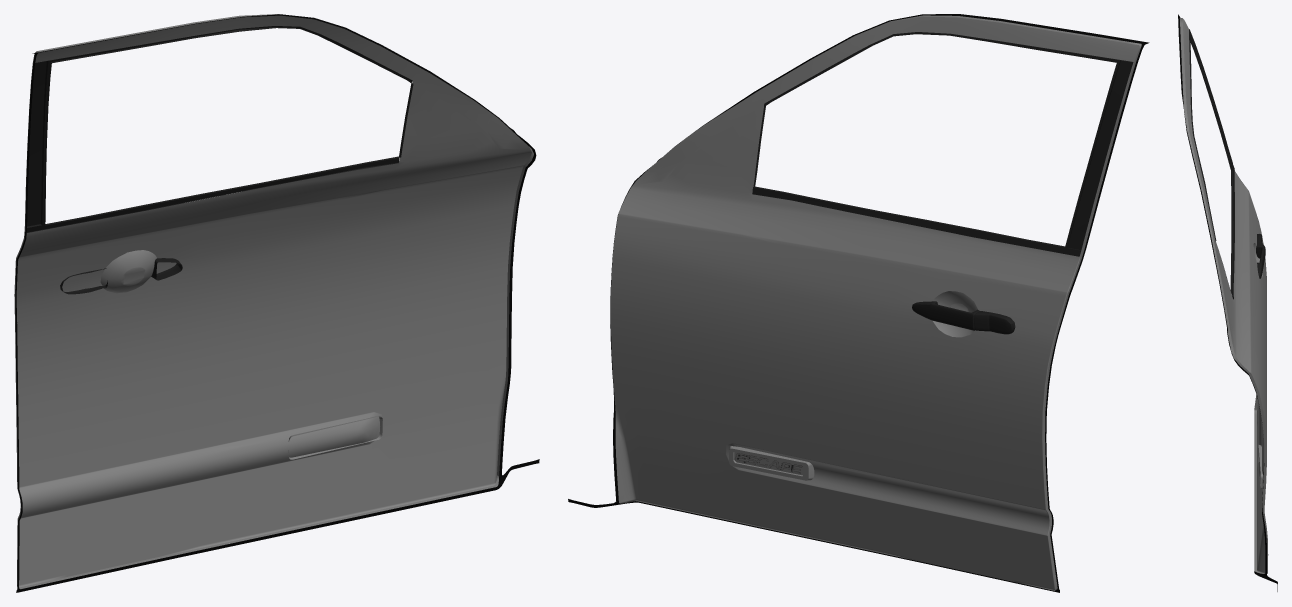
The picture shows the model from 3 angles, left to right: view 1: azimuth 30°, elevation 25°; view 2: azimuth 150°, elevation 25°; view 3: azimuth 270°, elevation 25°; orthographic projection. The views are drawn at different scales.
Parts seen in each view (by area): view 1: P712_261B_L_P712_261B_L_2_DaS, P712_261B_L_P712_261B_L_1_D, P712_261B_L_P712_261B_L_4_D, P712_261B_L_P712_261B_L_2_DaS_E; view 2: P712_261B_L_P712_261B_L_2_DaS, P712_261B_L_P712_261B_L_1_D, P712_261B_L_P712_261B_L_4_D, P712_261B_L_P712_261B_L_2_DaS_E, P712_261B_L_5_D_P712_261B_L; view 3: P712_261B_L_P712_261B_L_2_DaS, P712_261B_L_P712_261B_L_2_DaS_E, P712_261B_L_P712_261B_L_1_D, P712_261B_L_P712_261B_L_4_D.
Part boxes in pixels (box(x1,y1,x2,y2)): P712_261B_L_P712_261B_L_2_DaS: box(16, 15, 531, 587); P712_261B_L_P712_261B_L_1_D: box(26, 26, 413, 294); P712_261B_L_P712_261B_L_4_D: box(15, 14, 539, 592); P712_261B_L_P712_261B_L_2_DaS_E: box(14, 14, 533, 589); P712_261B_L_P712_261B_L_2_DaS: box(610, 16, 1139, 590); P712_261B_L_P712_261B_L_1_D: box(752, 32, 1133, 334); P712_261B_L_P712_261B_L_4_D: box(568, 14, 1149, 592); P712_261B_L_P712_261B_L_2_DaS_E: box(752, 15, 1141, 590); P712_261B_L_5_D_P712_261B_L: box(729, 446, 814, 480); P712_261B_L_P712_261B_L_2_DaS: box(1182, 18, 1266, 573); P712_261B_L_P712_261B_L_2_DaS_E: box(1179, 18, 1268, 573); P712_261B_L_P712_261B_L_1_D: box(1189, 29, 1265, 299); P712_261B_L_P712_261B_L_4_D: box(1178, 14, 1277, 591).
Bounding box in the file's own units: 156 × 155 × 35.57.
